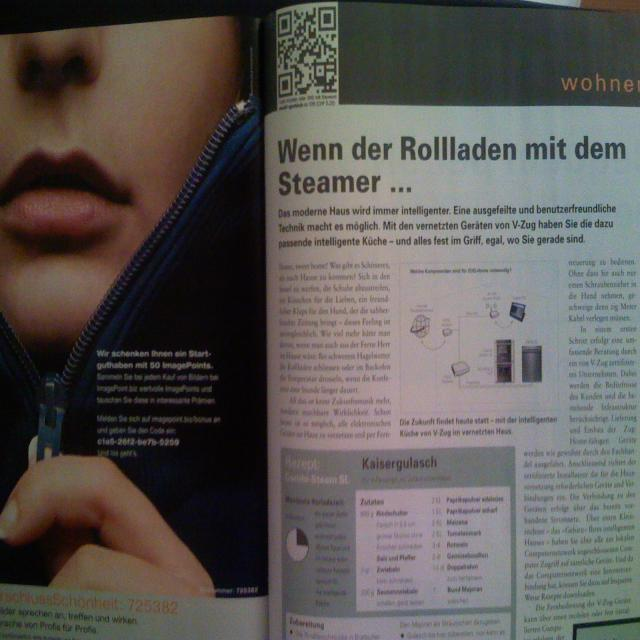qr-code: (278, 7, 336, 98)
